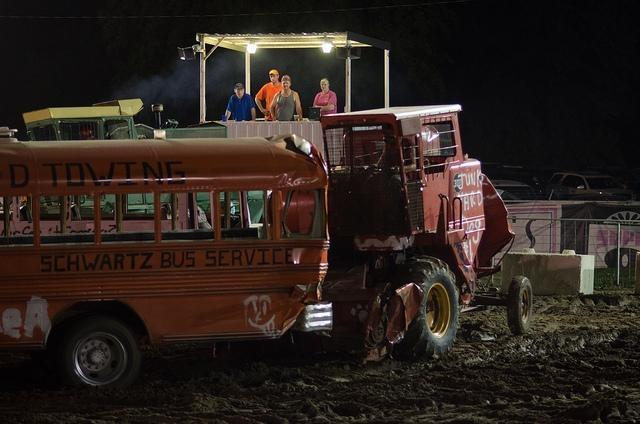bus: (1, 134, 331, 405)
truck: (24, 97, 327, 155)
